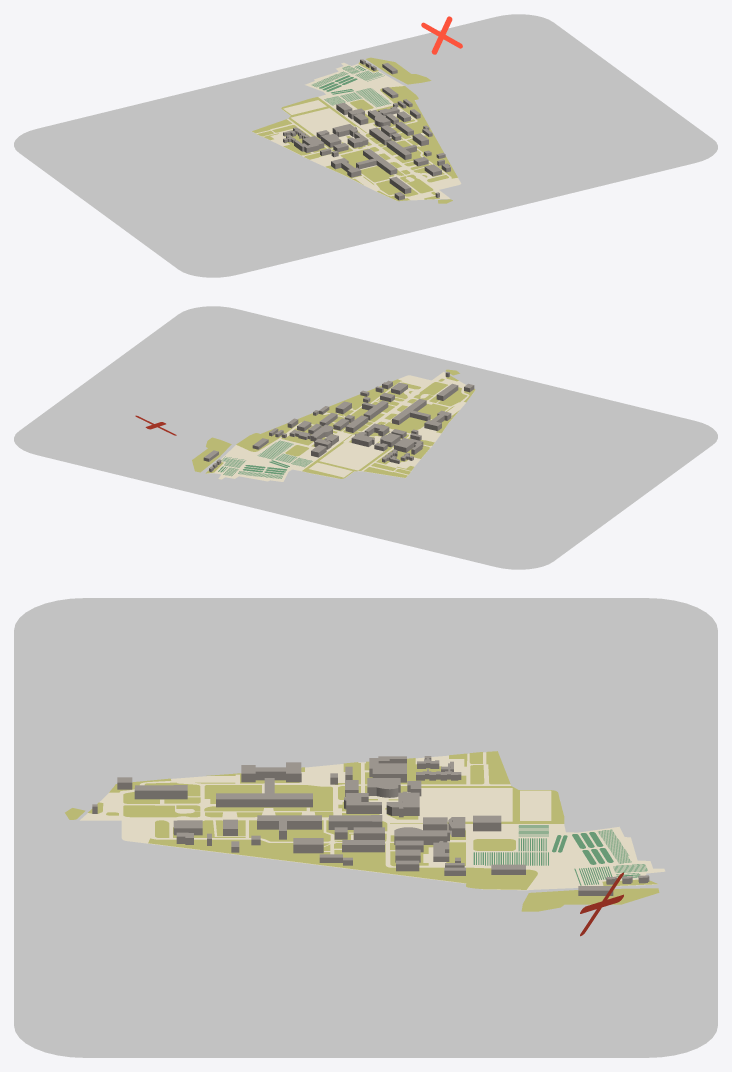
The model's file is CampusMapLayers.fbx.
3 renders of one model, top to bottom at view 1: azimuth 30°, elevation 25°; view 2: azimuth 150°, elevation 25°; view 3: azimuth 270°, elevation 25°, orthographic. The views are drawn at different scales.
Parts seen in each view (by area): view 1: BG, Ground, Grass, Crops, Buildings, X; view 2: BG, Ground, Grass, Crops, Buildings; view 3: BG, Ground, Grass, Crops, Buildings, Buildings.044, Buildings.043, TennisCourt, Buildings.007, Buildings.040, Buildings.035, Buildings.042.
Boxes of the visible parts, <box> form: BG: <box>14,14,717,277</box>; Ground: <box>253,62,461,200</box>; Grass: <box>252,57,457,203</box>; Crops: <box>312,65,390,107</box>; Buildings: <box>356,149,397,174</box>; X: <box>421,16,462,54</box>; BG: <box>14,306,717,569</box>; Ground: <box>205,372,472,481</box>; Grass: <box>192,369,475,478</box>; Crops: <box>218,440,312,478</box>; Buildings: <box>392,399,430,424</box>; BG: <box>14,598,717,1057</box>; Ground: <box>80,752,665,890</box>; Grass: <box>65,751,659,911</box>; Crops: <box>473,825,647,885</box>; Buildings: <box>216,778,312,807</box>; Buildings.044: <box>257,815,321,839</box>; Buildings.043: <box>241,762,301,782</box>; TennisCourt: <box>520,790,551,820</box>; Buildings.007: <box>369,756,406,782</box>; Buildings.040: <box>134,785,187,799</box>; Buildings.035: <box>394,827,449,844</box>; Buildings.042: <box>328,815,382,829</box>.
Size of the model in its own units: 99.27 by 6.71 by 64.23.
